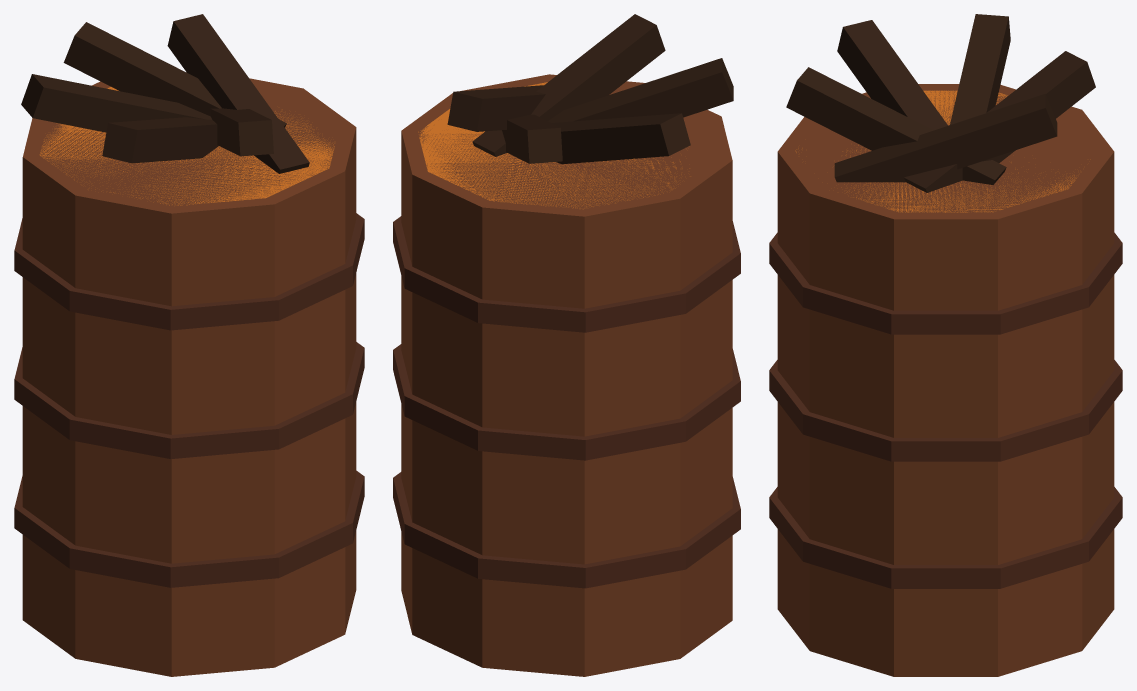
Rendered from fire_barrel.glb.
3 views of the same model, side by side, from view 1: azimuth 30°, elevation 25°; view 2: azimuth 150°, elevation 25°; view 3: azimuth 270°, elevation 25° (orthographic).
Parts seen in each view (by area): view 1: fire_barrel; view 2: fire_barrel; view 3: fire_barrel.
Boxes of the visible parts, x1=… form: fire_barrel: x1=14, y1=14, x2=364, y2=676; fire_barrel: x1=393, y1=14, x2=740, y2=676; fire_barrel: x1=769, y1=14, x2=1122, y2=676.
Size of what is drawn, in the model's own units: 0.5992 by 1.05 by 0.63.
